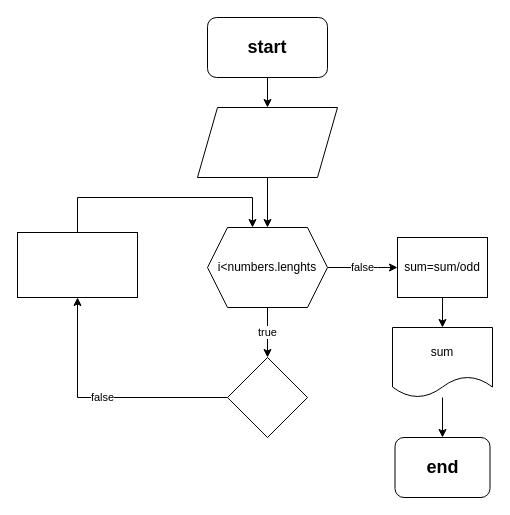
Some shapes in this 510 by 515 pixel diagram are drawn without their labels. Here are the shapes that lost their labels. From the top down, the centre of each, then its label:
point (267, 142): numbers[ ] odd=0; sum=0; i=0 avarage=0
point (77, 265): sum=sum+numbers[i]; odd++;
point (267, 397): i%2==1 i++
